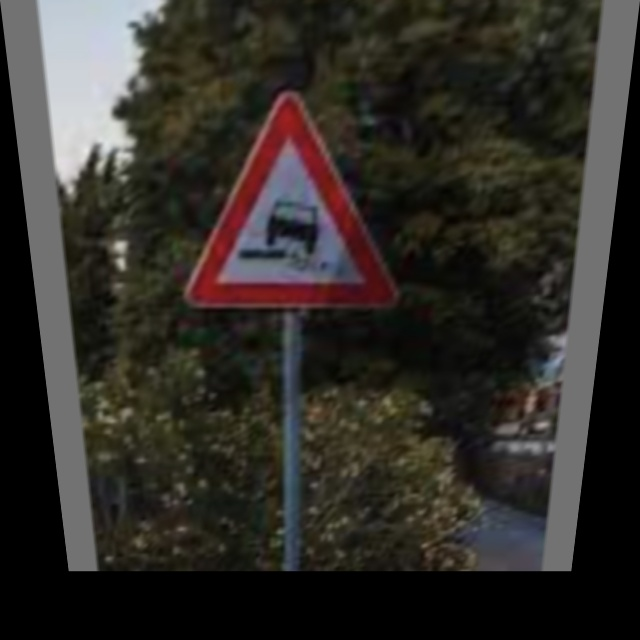Loose_Gravel: (175, 85, 406, 304)
